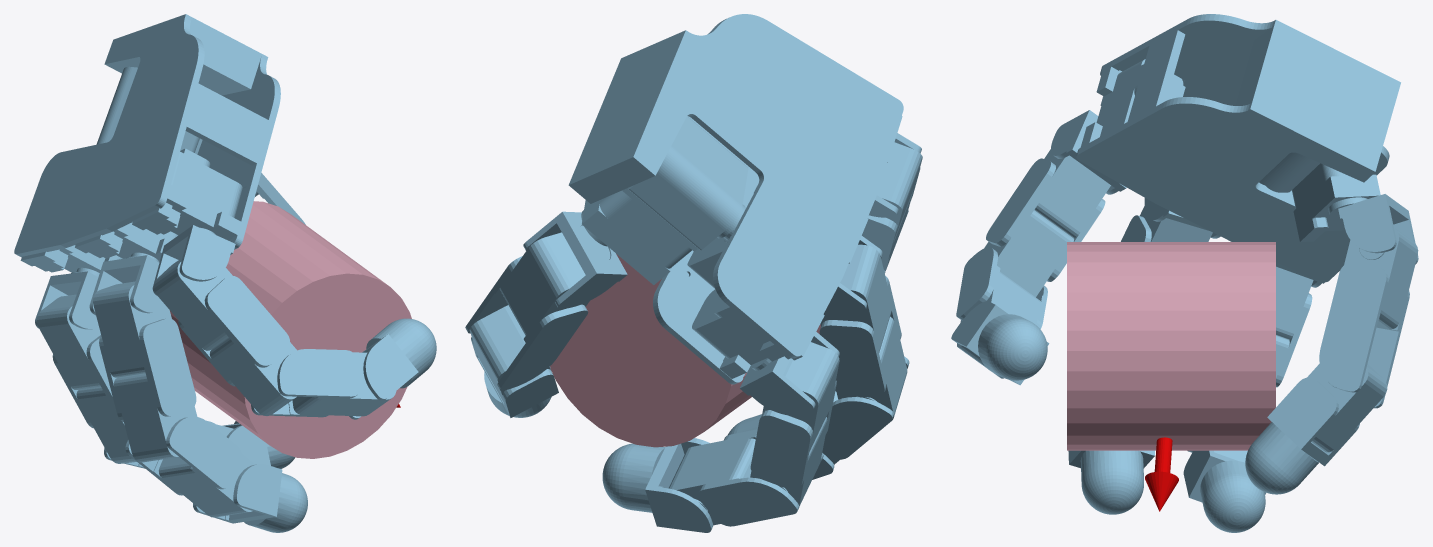
3 renders of one model, left to right at view 1: azimuth 30°, elevation 25°; view 2: azimuth 150°, elevation 25°; view 3: azimuth 270°, elevation 25°, orthographic. The views are drawn at different scales.
Parts seen in each view (by area): view 1: world, cylinder_medium.stl; view 2: world, cylinder_medium.stl; view 3: world, cylinder_medium.stl.
Part boxes in pixels (x1,y1,x2,y2): world: [14, 14, 436, 532]; cylinder_medium.stl: [169, 201, 411, 458]; world: [465, 14, 922, 532]; cylinder_medium.stl: [550, 253, 820, 447]; world: [951, 14, 1418, 532]; cylinder_medium.stl: [1067, 242, 1275, 450].
Bounding box in the file's own units: 0.1446 × 0.2049 × 0.1789.
